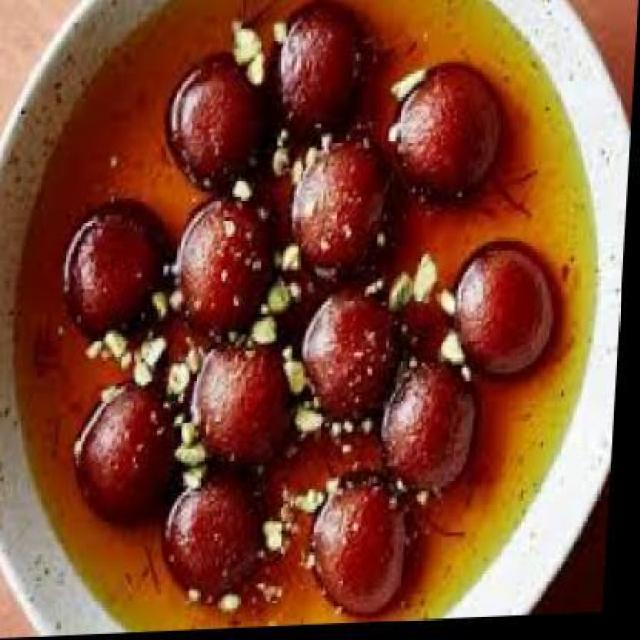gulab_jamun: (77, 378, 188, 531), (395, 63, 508, 211), (163, 51, 271, 198), (175, 197, 283, 343), (63, 200, 172, 343), (265, 3, 372, 146), (302, 289, 409, 426), (291, 140, 391, 286), (166, 475, 274, 608), (457, 251, 561, 380), (314, 488, 415, 620), (386, 363, 482, 495), (194, 351, 297, 471)
